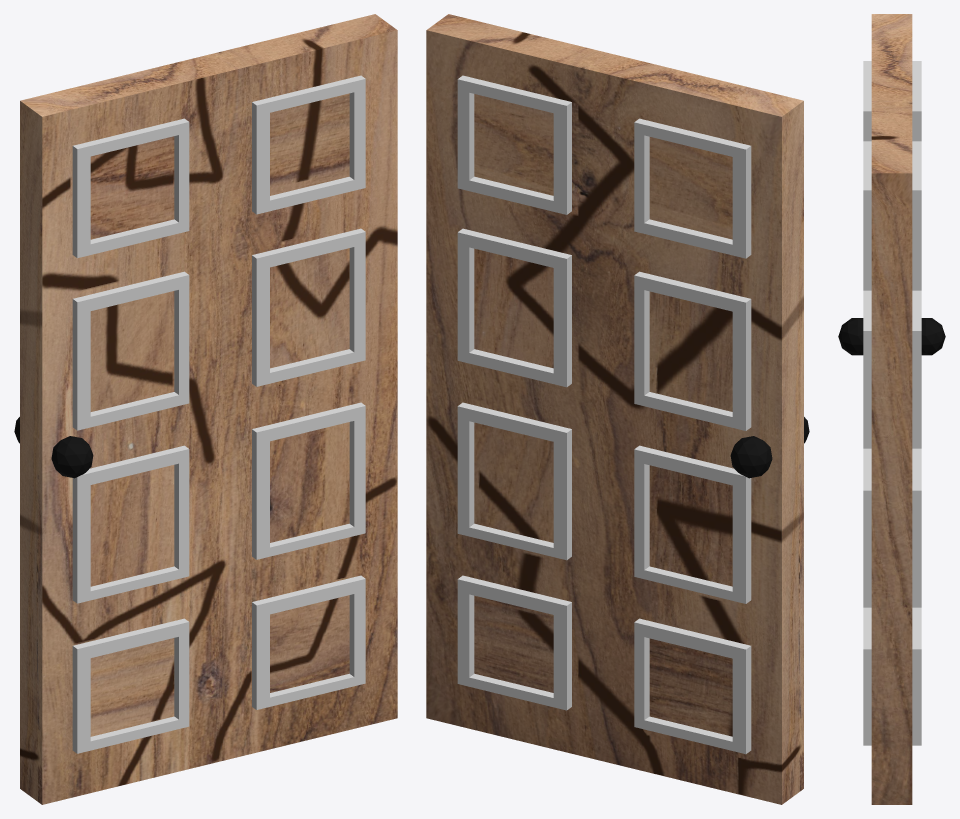
File: DoorModel.fbx
The picture shows the model from 3 angles, left to right: view 1: azimuth 30°, elevation 25°; view 2: azimuth 150°, elevation 25°; view 3: azimuth 270°, elevation 25°; orthographic projection. The views are drawn at different scales.
Parts seen in each view (by area): view 1: Cube; view 2: Cube; view 3: Cube.
Boxes of the visible parts, x1,y1,x2,y2 form: Cube: (14,14,397,804); Cube: (426,14,809,804); Cube: (838,14,945,804).
Size of the model in its own units: 402 by 744 by 115.
